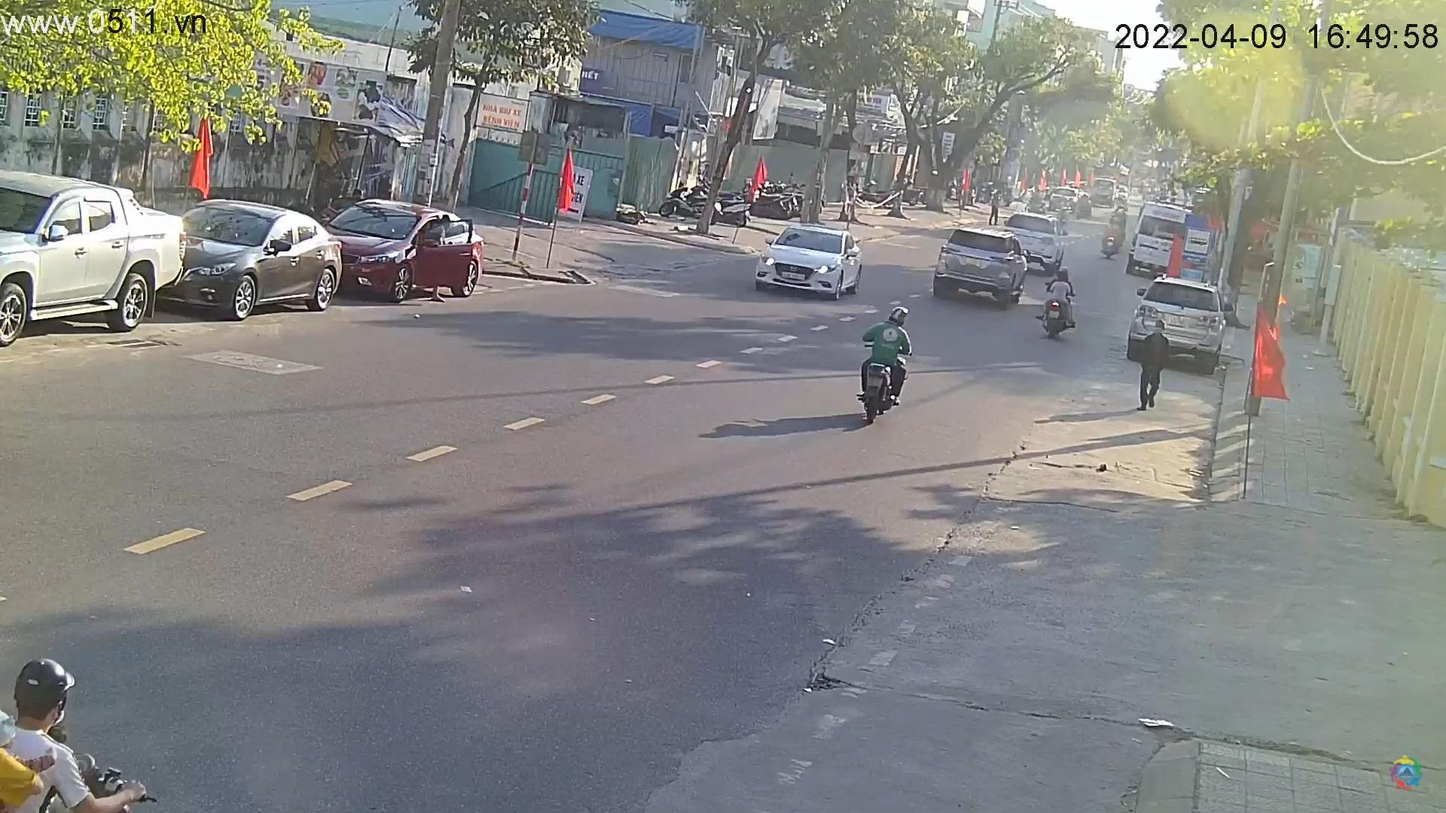car: (2, 170, 190, 352), (163, 201, 349, 322), (319, 197, 488, 305), (758, 224, 867, 299)
